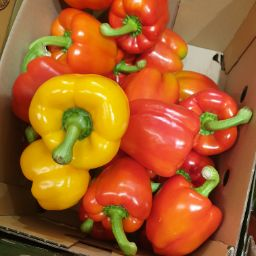Bell pepper: (11, 1, 233, 251), (20, 49, 158, 253), (128, 68, 252, 190), (26, 81, 135, 173), (140, 170, 226, 256), (87, 163, 160, 256), (37, 8, 126, 83), (102, 4, 172, 57)
